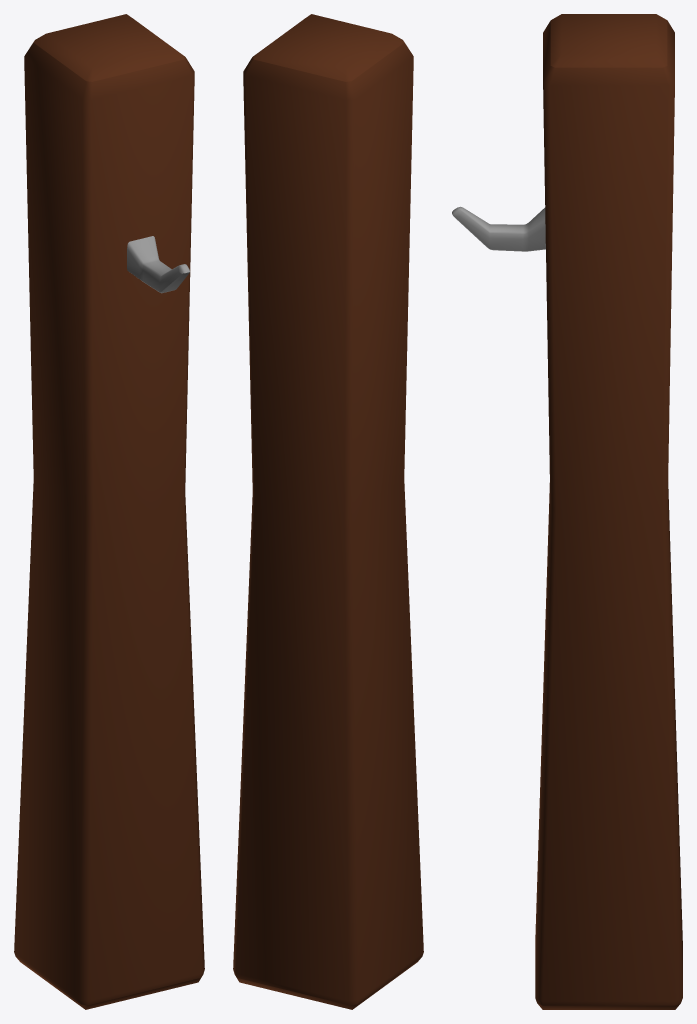
Rendered from post w hook.fbx.
3 views of the same model, side by side, from view 1: azimuth 30°, elevation 25°; view 2: azimuth 150°, elevation 25°; view 3: azimuth 270°, elevation 25° (orthographic).
Visible parts, largest first — view 1: Object001; view 2: Object001; view 3: Object001.
Part boxes in pixels (x1,y1,x2,y2): Object001: (14,14,204,1009); Object001: (233,14,423,1009); Object001: (452,14,682,1009).
Size of the model in its own units: 39.37 by 279 by 61.54.
1 material, 1 textured.
